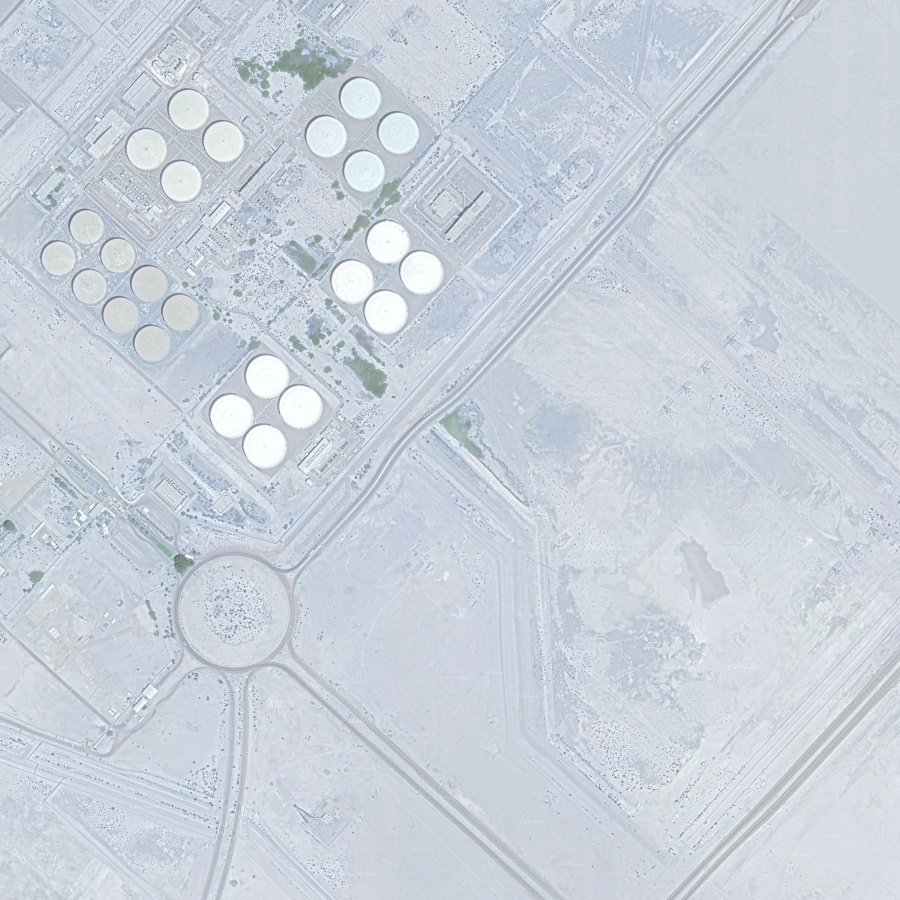PowerPlant: (31, 28, 481, 488)
